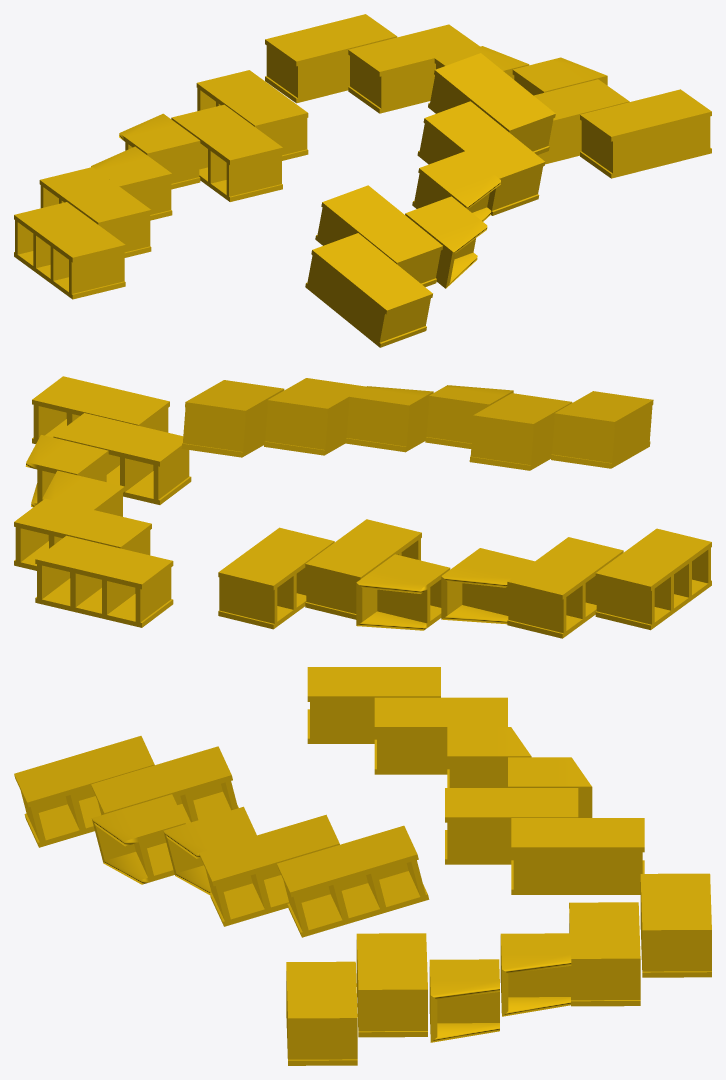
Rendered from Rubble_Cinderblock_03B_Lod0.fbx.
3 views of the same model, one above another, from view 1: azimuth 30°, elevation 25°; view 2: azimuth 150°, elevation 25°; view 3: azimuth 270°, elevation 25° (orthographic). The views are drawn at different scales.
Visible parts, largest first — view 1: Rubble_Cinderblock_03B_Lod0; view 2: Rubble_Cinderblock_03B_Lod0; view 3: Rubble_Cinderblock_03B_Lod0.
Boxes of the visible parts, x1,y1,x2,y2 form: Rubble_Cinderblock_03B_Lod0: (14, 14, 711, 347); Rubble_Cinderblock_03B_Lod0: (14, 376, 711, 638); Rubble_Cinderblock_03B_Lod0: (14, 667, 711, 1065).
Size of the model in its own units: 318 by 49.17 by 268.
